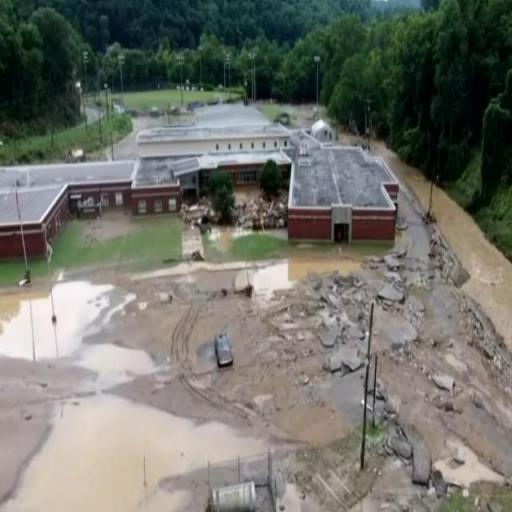flood: (0, 281, 264, 512), (434, 186, 512, 352), (135, 250, 362, 300), (378, 142, 431, 208), (213, 227, 237, 247)
house: (282, 132, 405, 250), (0, 157, 139, 259), (136, 123, 294, 185), (308, 116, 336, 144)
